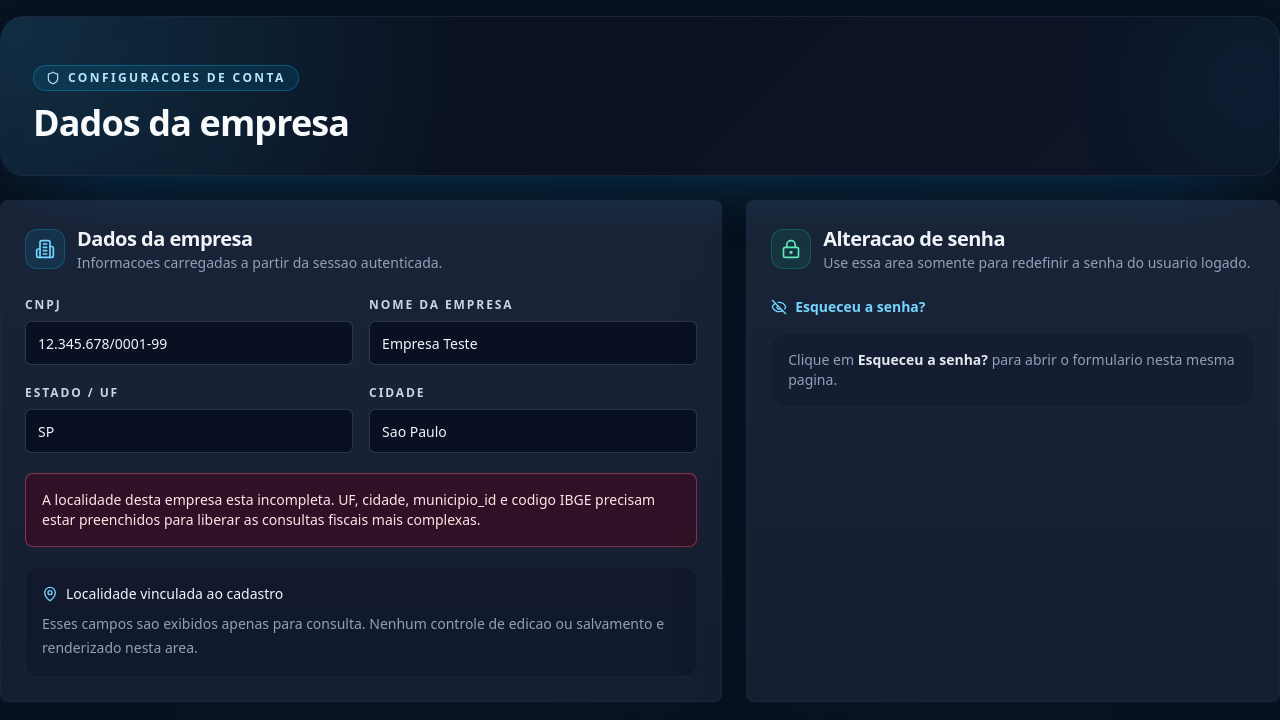
Test case: pagina de configuracoes › exibe os dados da empresa como somente leitura e permite atualizar a senha
Expected: the heading "Dados da empresa" in the row of "Alteracao de senha" is shown, [77,225,253,252]
Expected: the heading "Alteracao de senha" is shown, [823,225,1005,252]
Click the button "Esqueceu a senha?".
click(848, 307)  # box [771,297,926,317]
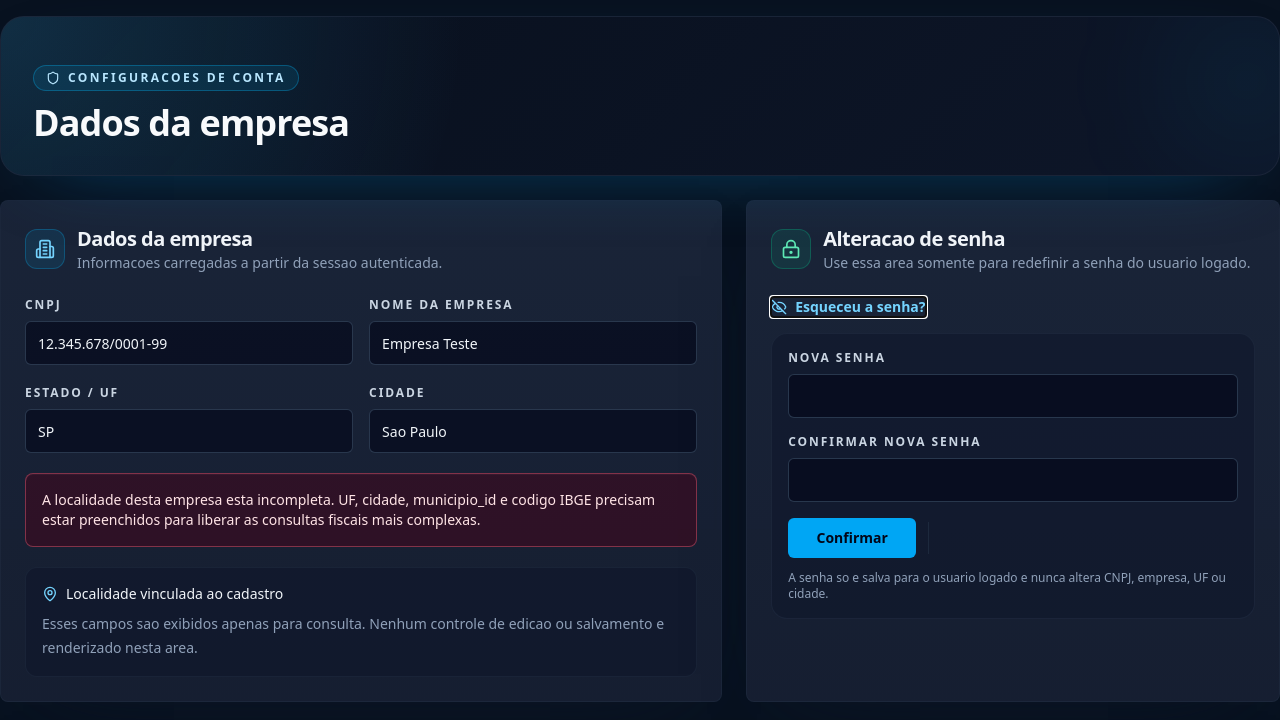
Type "SenhaNova@123" into the password field labelled "Nova senha".
click(1013, 396); type("SenhaNova@123")  # box [788,374,1238,418]
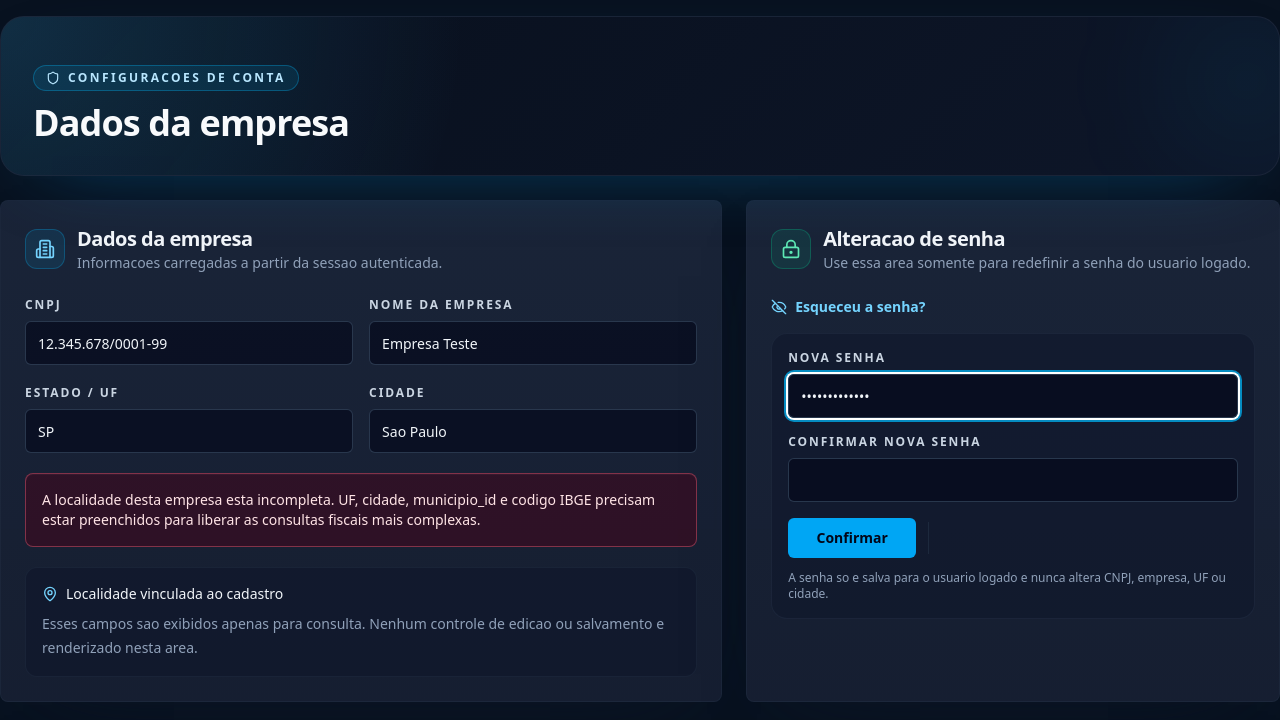
Type "SenhaNova@123" into the password field labelled "Confirmar nova senha".
click(1013, 480); type("SenhaNova@123")  # box [788,458,1238,502]
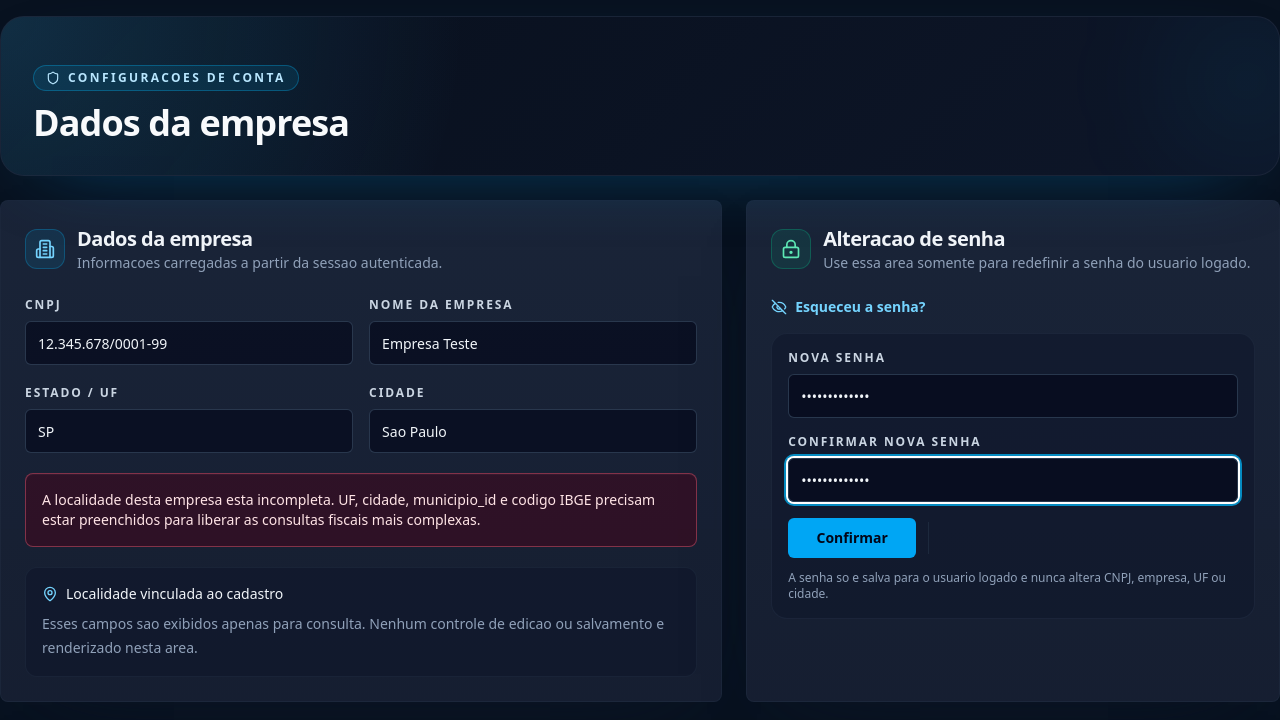
Click the button "Confirmar".
click(852, 538)  # box [788,518,916,558]
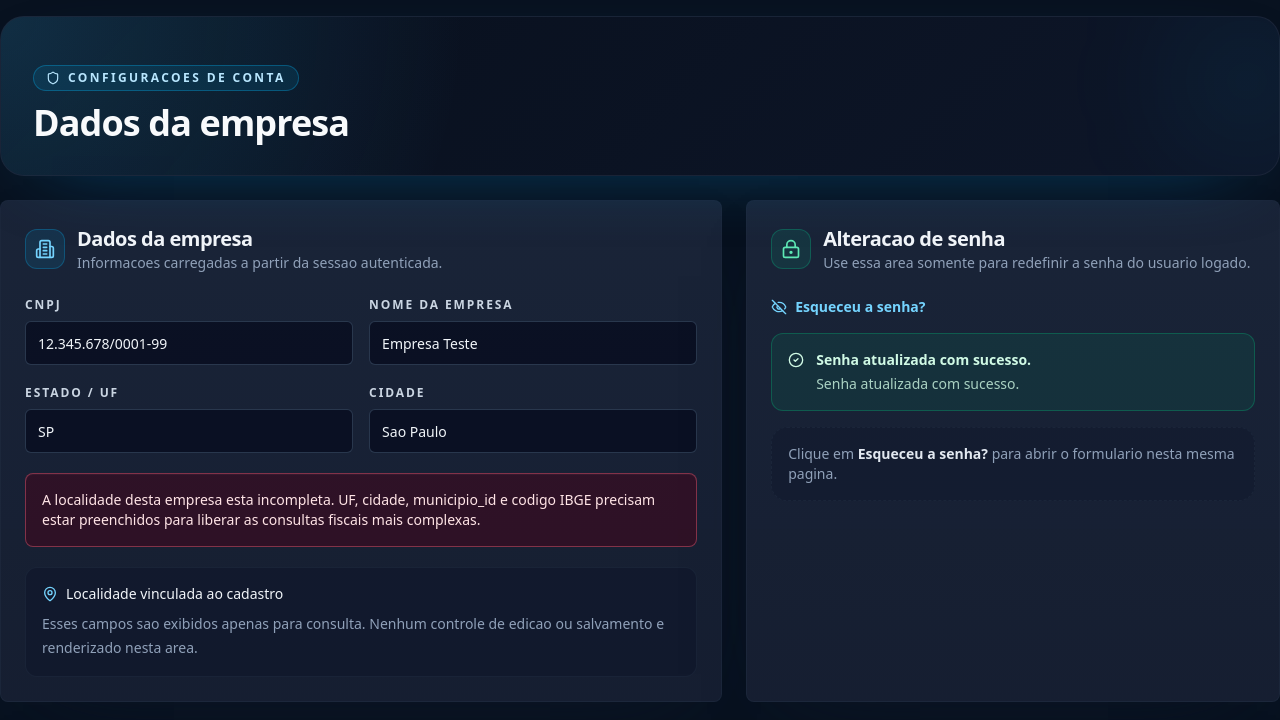
Expected: the 1st text "Senha atualizada com sucesso." is shown, [816,350,1031,370]
Expected: the label labelled "Nova senha" is gone
